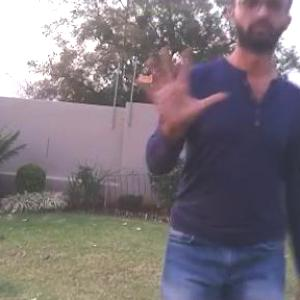follow_hand: (131, 41, 230, 130)
